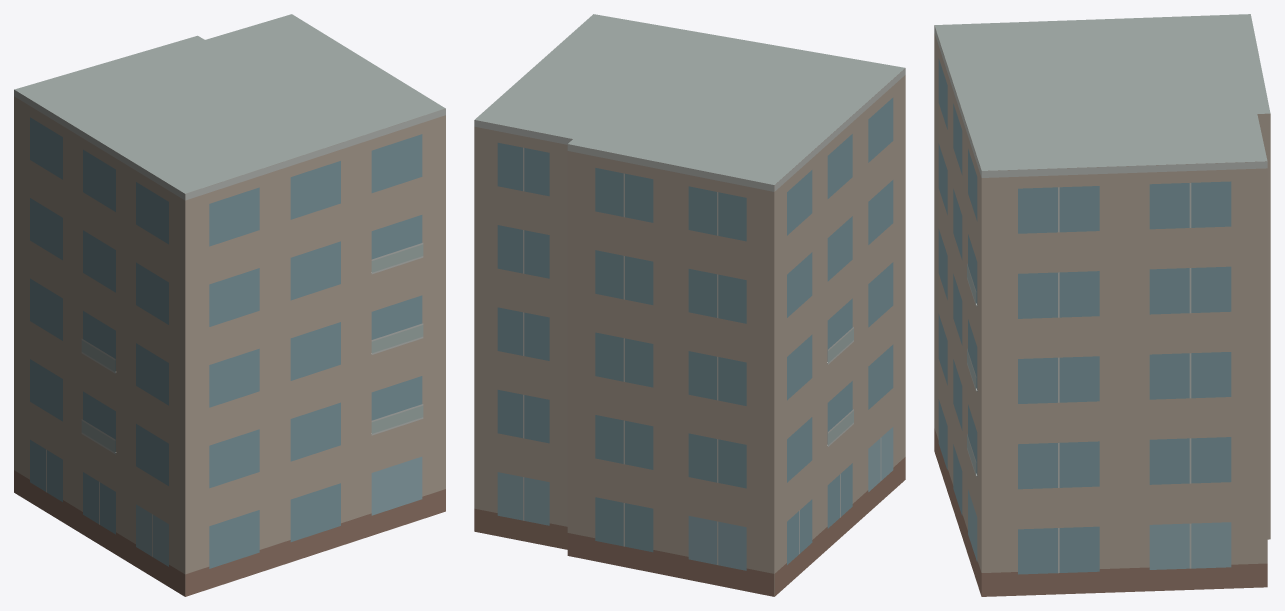
File: survey-upis-32701649.glb
3 renders of one model, left to right at view 1: azimuth 30°, elevation 25°; view 2: azimuth 150°, elevation 25°; view 3: azimuth 270°, elevation 25°, orthographic. The views are drawn at different scales.
Visible parts, largest first — view 1: survey-upis-32701649.tmp; view 2: survey-upis-32701649.tmp; view 3: survey-upis-32701649.tmp.
Boxes of the visible parts, x1,y1,x2,y2 form: survey-upis-32701649.tmp: (14, 14, 445, 596); survey-upis-32701649.tmp: (474, 14, 905, 596); survey-upis-32701649.tmp: (934, 14, 1270, 596).
Size of the model in its own units: 11.63 by 14.7 by 10.53.
